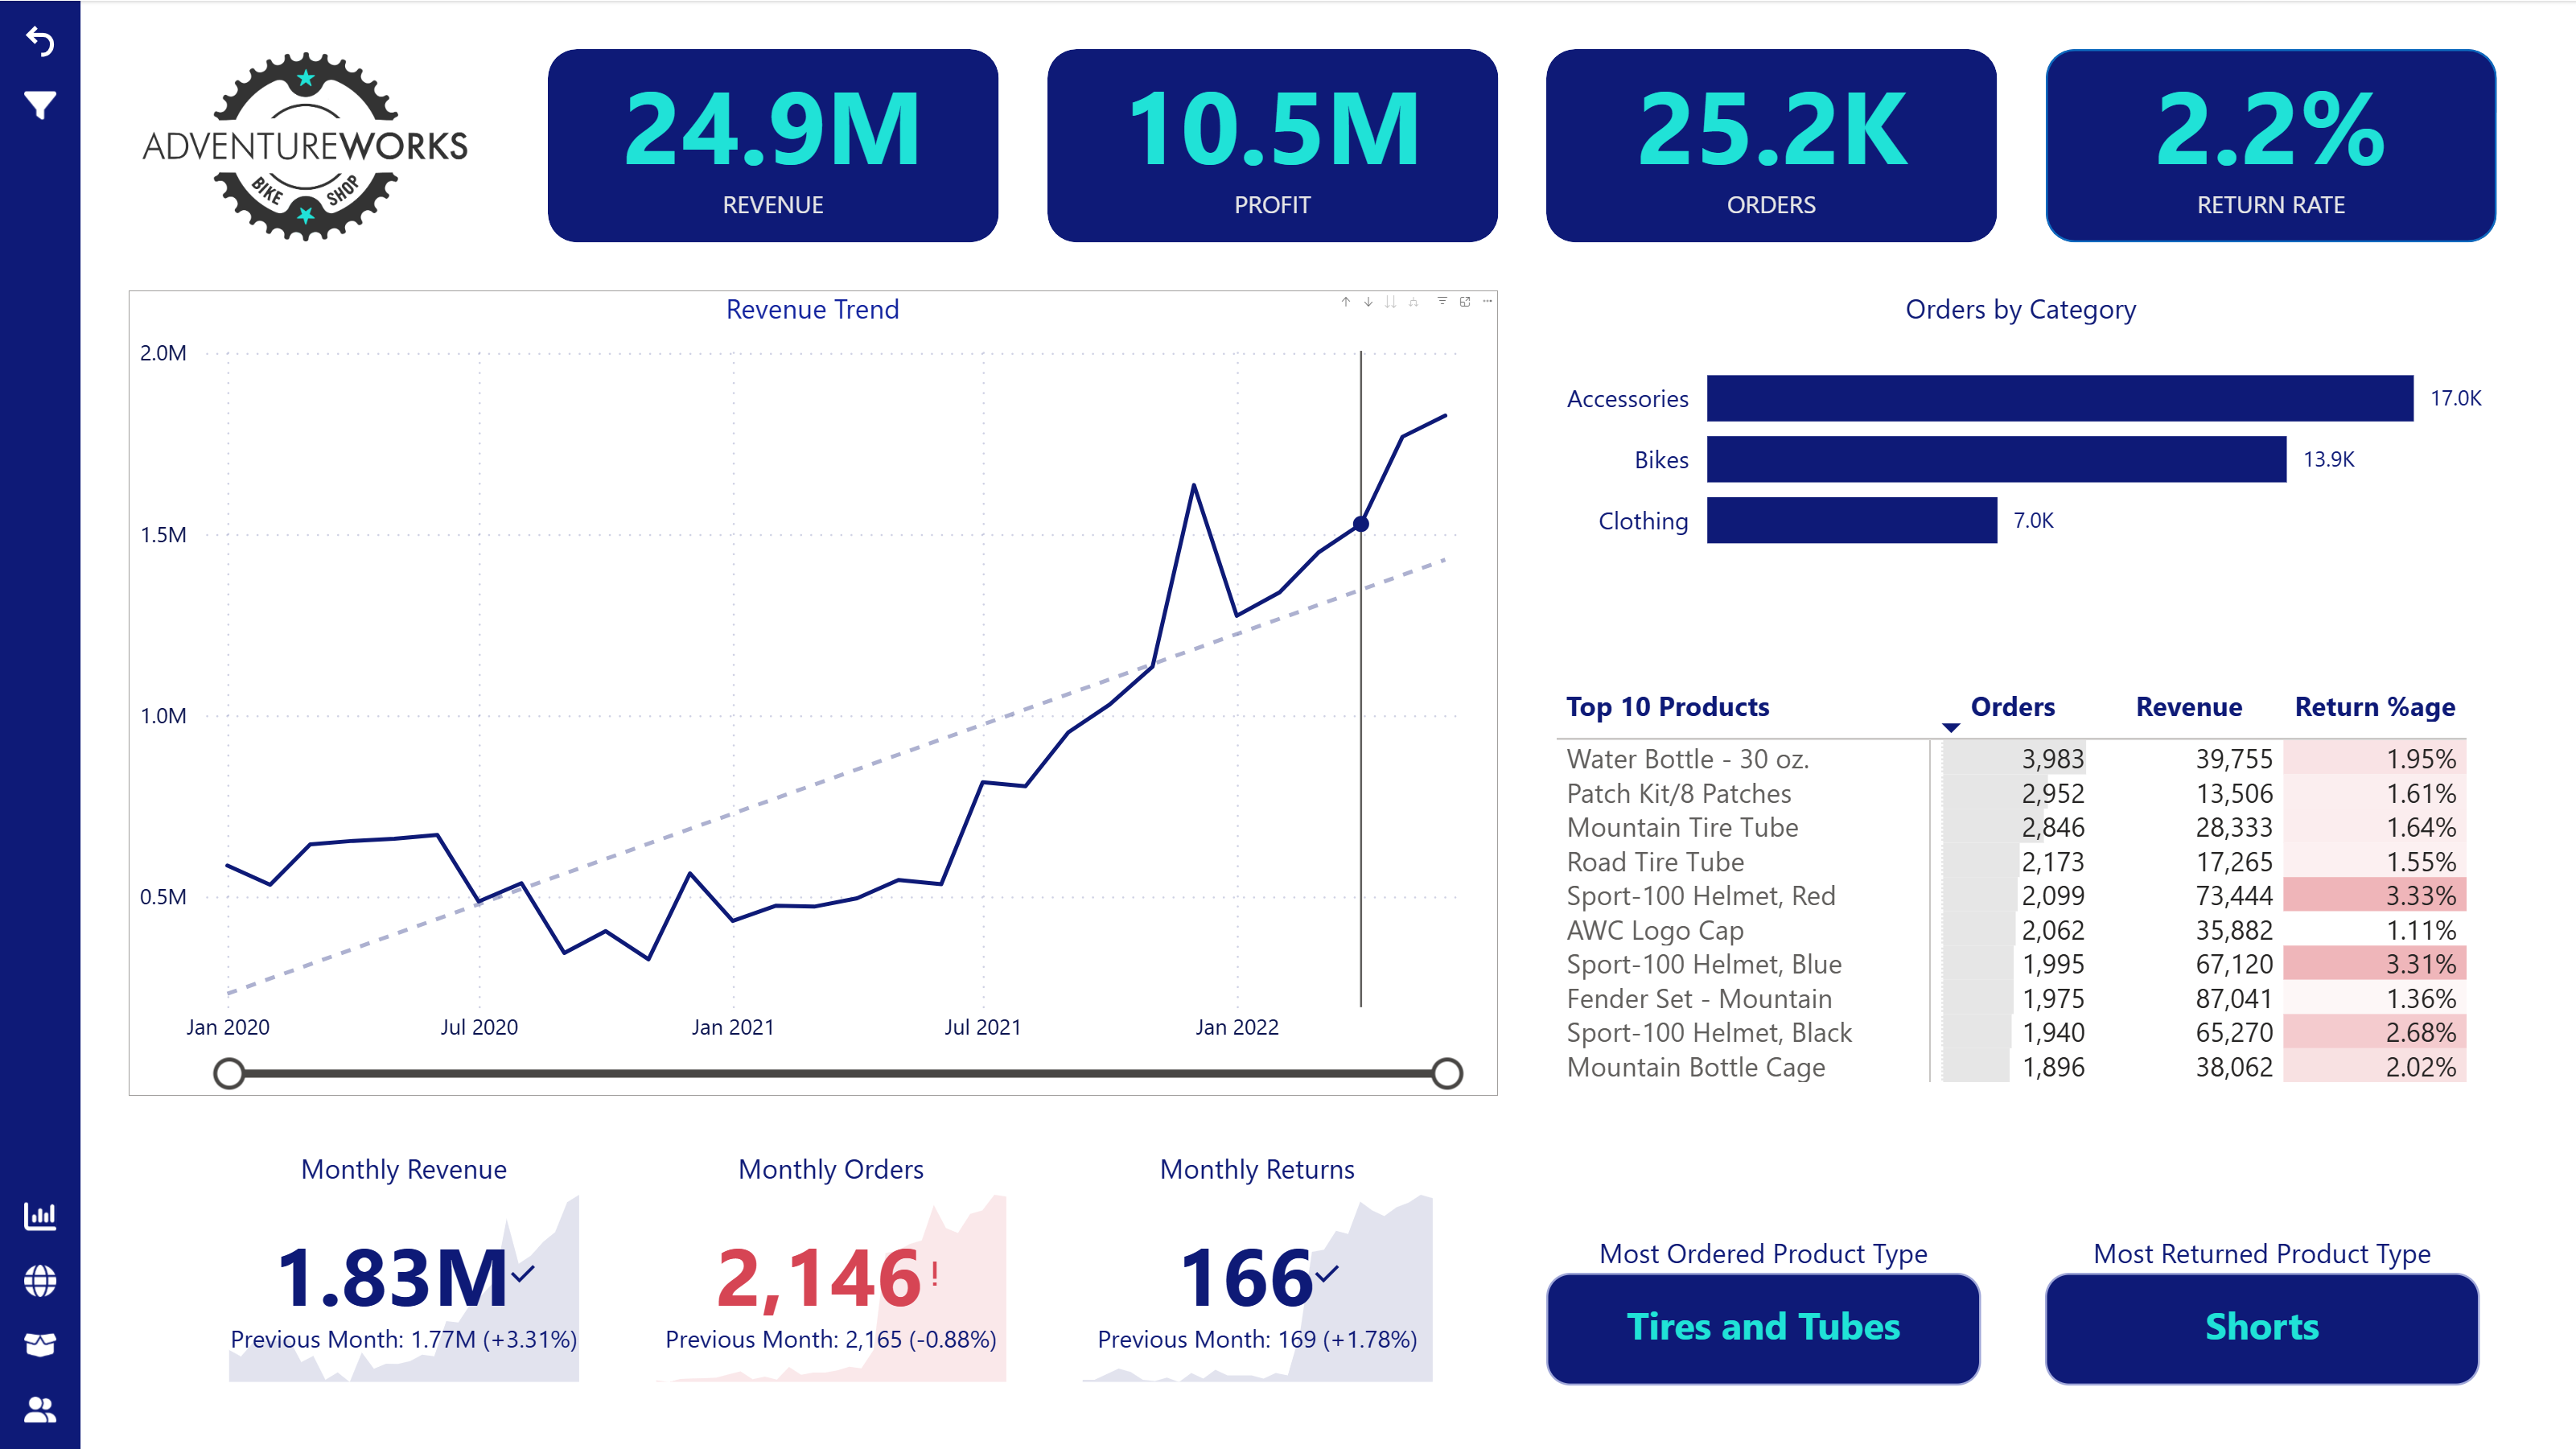

The page's visual inventory and layout, read from the dashboard file:
{"tool":"powerbi","page":{"name":"Exec Dashboard","canvas":[1280,720],"ordinal":0},"visuals":[{"type":"shape","title":"Left_Nav_Background","box":[0,0,40,720],"z":0},{"type":"card","fields":{"Values":["Measure Table.Total Revenue"]},"box":[280,16,208,104],"z":0,"group":"g2"},{"type":"group","id":"g1","title":"KPI_Backgrounds","box":[272,24,968,96],"z":0,"group":"g3"},{"type":"shape","box":[272,24,224,96],"z":0,"group":"g1"},{"type":"actionButton","box":[8,592,24,24],"z":0,"group":"g4"},{"type":"image","title":"AW_Logo","box":[48,16,208,112],"z":1000},{"type":"group","id":"g2","title":"KPI_Values","box":[280,16,952,104],"z":1000,"group":"g3"},{"type":"card","fields":{"Values":["Measure Table.Total Profit"]},"box":[528,16,208,104],"z":1000,"group":"g2"},{"type":"shape","box":[520,24,224,96],"z":1000,"group":"g1"},{"type":"actionButton","box":[8,656,24,24],"z":1000,"group":"g4"},{"type":"group","id":"g3","title":"KPIs","box":[272,16,968,104],"z":2000},{"type":"card","fields":{"Values":["Measure Table.Total Orders"]},"box":[776,16,208,104],"z":2000,"group":"g2"},{"type":"shape","box":[768,24,224,96],"z":2000,"group":"g1"},{"type":"actionButton","box":[8,688,24,24],"z":2000,"group":"g4"},{"type":"card","fields":{"Values":["Measure Table.Return Rate"]},"box":[1024,16,208,104],"z":3000,"group":"g2"},{"type":"shape","box":[1016,24,224,96],"z":3000,"group":"g1"},{"type":"lineChart","title":"Revenue Trend","fields":{"Y":["Measure Table.Total Revenue"],"Category":["Calendar Lookup.Year","Calendar Lookup.Start of Quarter","Calendar Lookup.Start of Month"]},"box":[64,144,680,400],"z":3000},{"type":"actionButton","box":[8,624,24,24],"z":3000,"group":"g4"},{"type":"kpi","title":"Monthly Revenue","fields":{"Indicator":["Measure Table.Total Revenue"],"TrendLine":["Calendar Lookup.Start of Month"],"Goal":["Measure Table.Previous Month Revenue"]},"box":[108.9,571.1,184,120],"z":4000},{"type":"actionButton","box":[8,40,24,24],"z":5000},{"type":"kpi","title":"Monthly Orders","fields":{"TrendLine":["Calendar Lookup.Start of Month"],"Indicator":["Measure Table.Total Orders"],"Goal":["Measure Table.Previous Month Orders"]},"box":[320.9,571.1,184,120],"z":6000},{"type":"kpi","title":"Monthly Returns","fields":{"TrendLine":["Calendar Lookup.Start of Month"],"Indicator":["Measure Table.Total Returns"],"Goal":["Measure Table.Previous Month Returns"]},"box":[532.9,571.1,184,120],"z":7000},{"type":"clusteredBarChart","title":"Orders by Category","fields":{"Category":["Product Categories Lookup.CategoryName"],"Y":["Measure Table.Total Orders"]},"box":[768,144,472,144],"z":8000},{"type":"pivotTable","fields":{"Rows":["Product Lookup.ProductName"],"Values":["Measure Table.Total Orders","Measure Table.Total Revenue","Measure Table.Return Rate"]},"box":[768,336,472,208],"z":9000},{"type":"card","fields":{"Values":["Min(Product Subcategories Lookup.SubcategoryName)"]},"box":[768,632,216,56],"z":10000},{"type":"textbox","box":[768,608,216,32],"z":11000},{"type":"card","fields":{"Values":["Min(Product Subcategories Lookup.SubcategoryName)"]},"box":[1016,632,216,56],"z":12000},{"type":"textbox","box":[1016,608,216,32],"z":13000},{"type":"actionButton","box":[8,8,24,24],"z":14000},{"type":"group","id":"g4","title":"Navigation Buttons","box":[8,592,24,120],"z":15000}]}

Visuals, with their boxes on the page's 1280x720 design canvas (x1, y1, x2, y2). These are canvas units, not pixel positions in the 2576x1449 screenshot, which may show the page scaled, cropped or inside an application window:
"Left_Nav_Background" shape: [left=0, top=0, right=40, bottom=720]
card - Measure Table.Total Revenue: [left=280, top=16, right=488, bottom=120]
"KPI_Backgrounds" group: [left=272, top=24, right=1240, bottom=120]
shape: [left=272, top=24, right=496, bottom=120]
actionButton: [left=8, top=592, right=32, bottom=616]
"AW_Logo" image: [left=48, top=16, right=256, bottom=128]
"KPI_Values" group: [left=280, top=16, right=1232, bottom=120]
card - Measure Table.Total Profit: [left=528, top=16, right=736, bottom=120]
shape: [left=520, top=24, right=744, bottom=120]
actionButton: [left=8, top=656, right=32, bottom=680]
"KPIs" group: [left=272, top=16, right=1240, bottom=120]
card - Measure Table.Total Orders: [left=776, top=16, right=984, bottom=120]
shape: [left=768, top=24, right=992, bottom=120]
actionButton: [left=8, top=688, right=32, bottom=712]
card - Measure Table.Return Rate: [left=1024, top=16, right=1232, bottom=120]
shape: [left=1016, top=24, right=1240, bottom=120]
"Revenue Trend" lineChart: [left=64, top=144, right=744, bottom=544]
actionButton: [left=8, top=624, right=32, bottom=648]
"Monthly Revenue" kpi: [left=109, top=571, right=293, bottom=691]
actionButton: [left=8, top=40, right=32, bottom=64]
"Monthly Orders" kpi: [left=321, top=571, right=505, bottom=691]
"Monthly Returns" kpi: [left=533, top=571, right=717, bottom=691]
"Orders by Category" clusteredBarChart: [left=768, top=144, right=1240, bottom=288]
pivotTable - Product Lookup.ProductName x Measure Table.Total Orders: [left=768, top=336, right=1240, bottom=544]
card - Min(Product Subcategories Lookup.SubcategoryName): [left=768, top=632, right=984, bottom=688]
textbox: [left=768, top=608, right=984, bottom=640]
card - Min(Product Subcategories Lookup.SubcategoryName): [left=1016, top=632, right=1232, bottom=688]
textbox: [left=1016, top=608, right=1232, bottom=640]
actionButton: [left=8, top=8, right=32, bottom=32]
"Navigation Buttons" group: [left=8, top=592, right=32, bottom=712]
